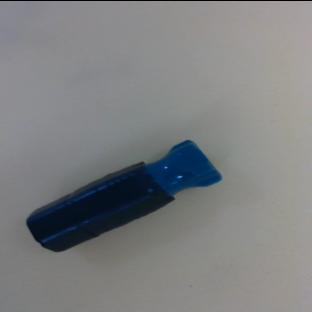part_2_bad: (22, 132, 223, 260)
